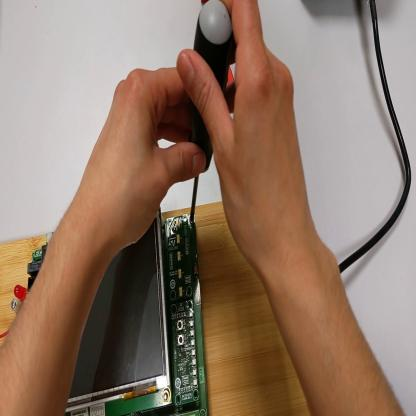hand: (185, 3, 316, 268), (83, 59, 202, 252)
low voltage board: (1, 209, 210, 416)
screwdriver-: (191, 2, 235, 222)
working area: (2, 201, 312, 416)
